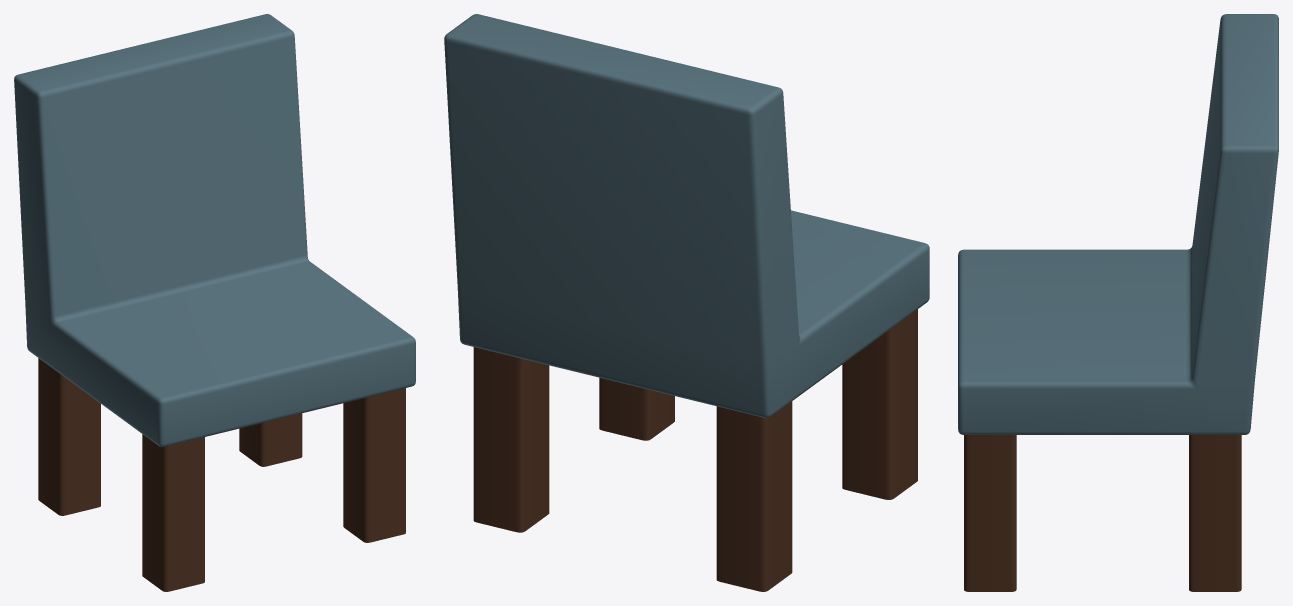
The model's file is Chair.fbx.
The picture shows the model from 3 angles, left to right: view 1: azimuth 30°, elevation 25°; view 2: azimuth 150°, elevation 25°; view 3: azimuth 270°, elevation 25°; orthographic projection. The views are drawn at different scales.
Visible parts, largest first — view 1: Chair_starnick; view 2: Chair_starnick; view 3: Chair_starnick.
Boxes of the visible parts, bbox=[...] form: Chair_starnick: bbox=[14, 14, 415, 591]; Chair_starnick: bbox=[444, 14, 929, 591]; Chair_starnick: bbox=[958, 14, 1278, 591].
Size of the model in its own units: 550 by 549 by 845.
